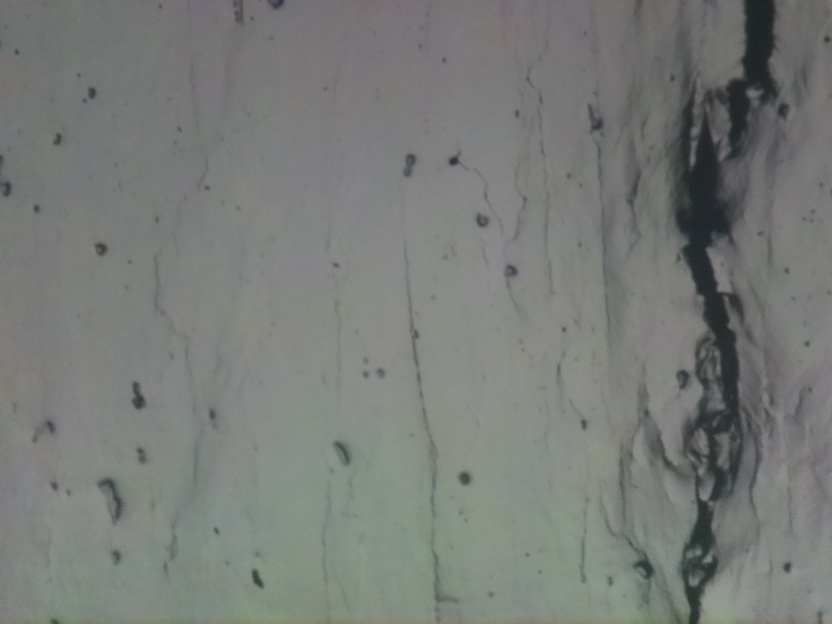crack: (656, 75, 743, 624), (721, 0, 785, 136)
